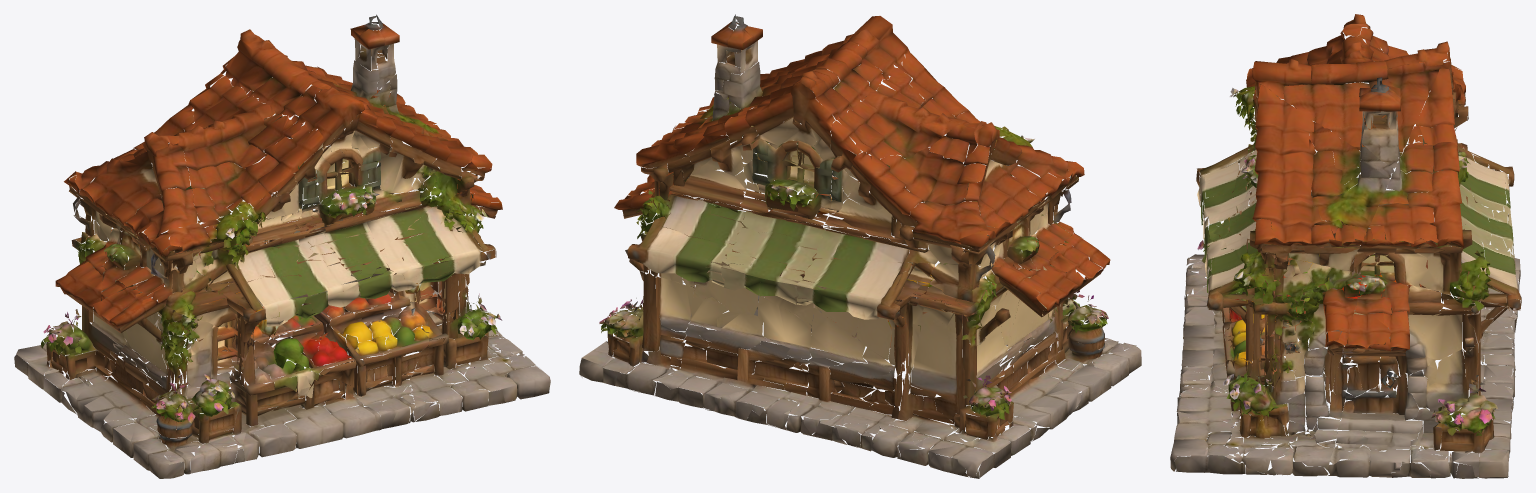
The model's file is grocery-v2.glb.
3 views of the same model, side by side, from view 1: azimuth 30°, elevation 25°; view 2: azimuth 150°, elevation 25°; view 3: azimuth 270°, elevation 25° (orthographic). The views are drawn at different scales.
Visible parts, largest first — view 1: tripo_node_736910ce-1c4f-4372-8cad-5b0aba0f68fa; view 2: tripo_node_736910ce-1c4f-4372-8cad-5b0aba0f68fa; view 3: tripo_node_736910ce-1c4f-4372-8cad-5b0aba0f68fa.
Boxes of the visible parts, left/top/right/bottom form: tripo_node_736910ce-1c4f-4372-8cad-5b0aba0f68fa: left=14, top=14, right=550, bottom=478; tripo_node_736910ce-1c4f-4372-8cad-5b0aba0f68fa: left=579, top=14, right=1141, bottom=478; tripo_node_736910ce-1c4f-4372-8cad-5b0aba0f68fa: left=1170, top=14, right=1521, bottom=478.
Bounding box in the file's own units: 6.14 × 4.64 × 4.16.
1 material, 1 textured.
